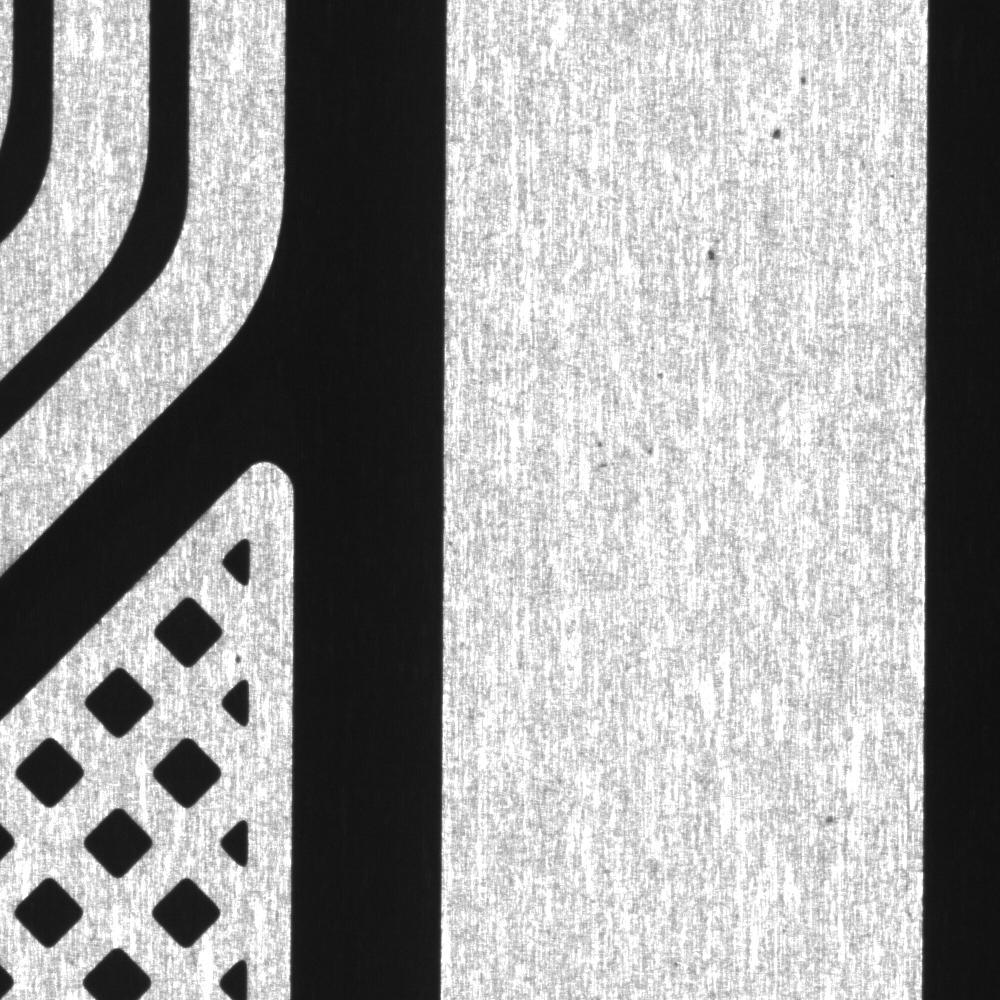Etching: (701, 234, 728, 277), (823, 805, 843, 836), (591, 457, 614, 479)
Pinhole: (764, 108, 796, 149), (638, 438, 661, 461), (795, 65, 815, 90), (587, 432, 609, 452)
